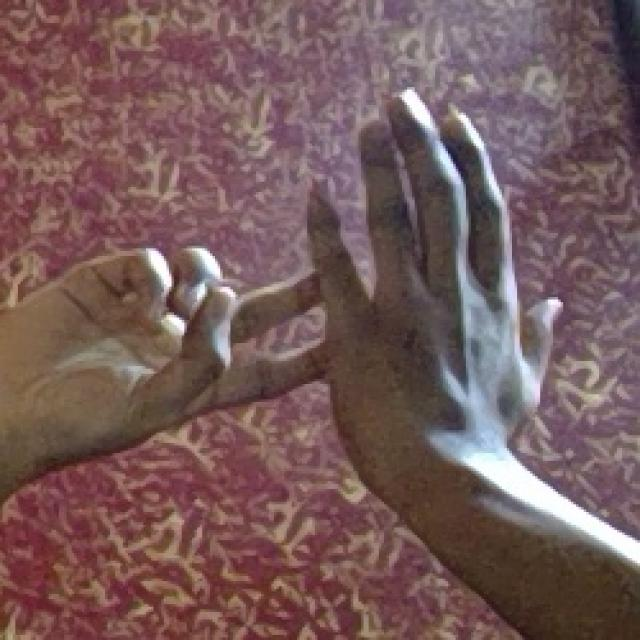Alphabet-N: (0, 82, 569, 484)
